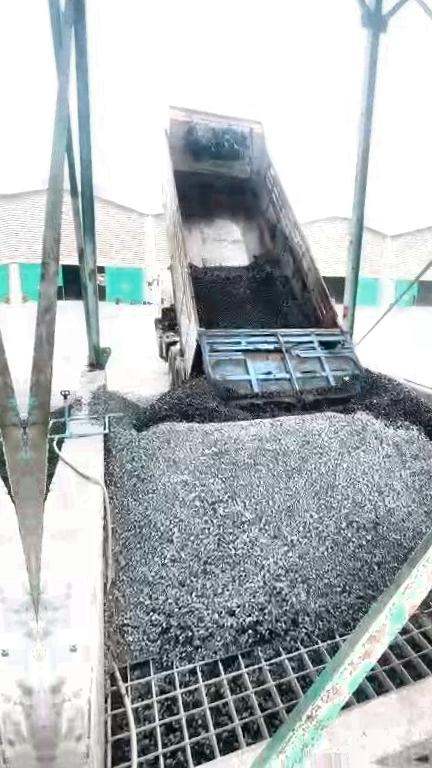gravel: (88, 359, 432, 662), (192, 255, 314, 329), (44, 438, 59, 504)
